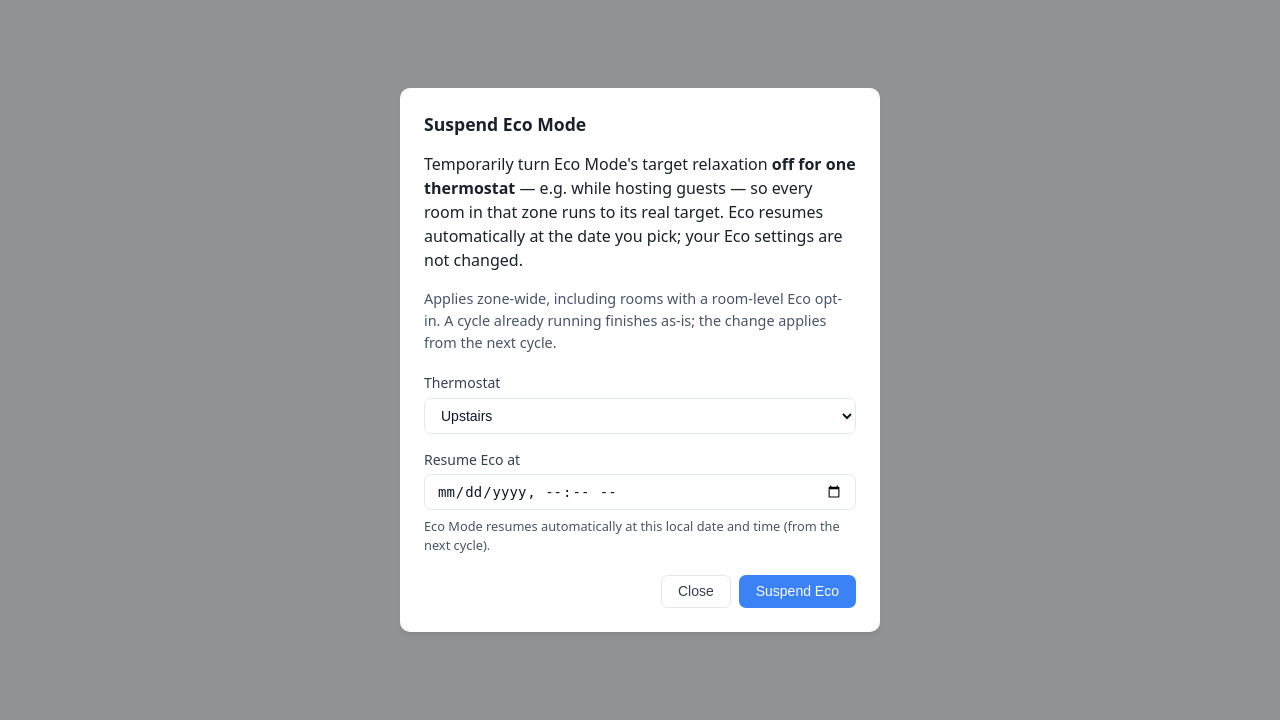
Test: EcoSuspendModal (Issue #500) › surfaces an API failure as an inline error
Type "2099-06-01T18:00" into the field labelled "Resume Eco at" at (640, 492), box [424,474,856,510]
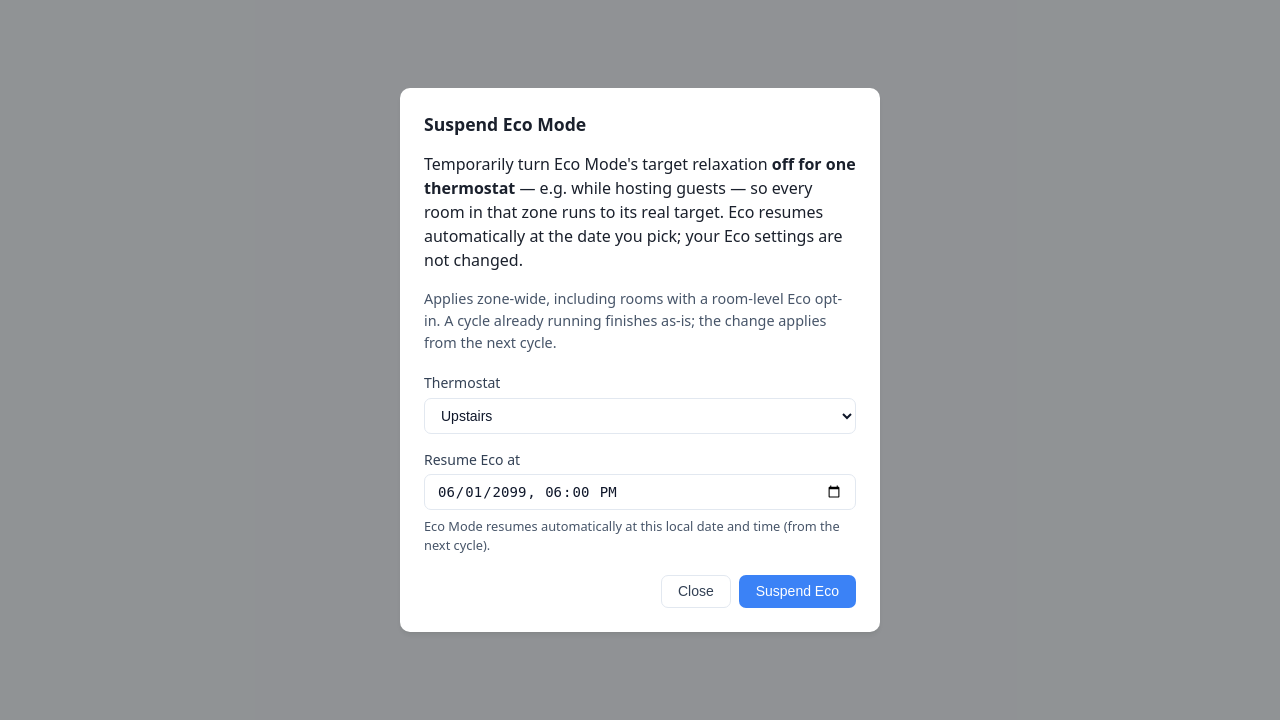
Click the button "Suspend Eco" at (797, 591), box [739,575,856,608]
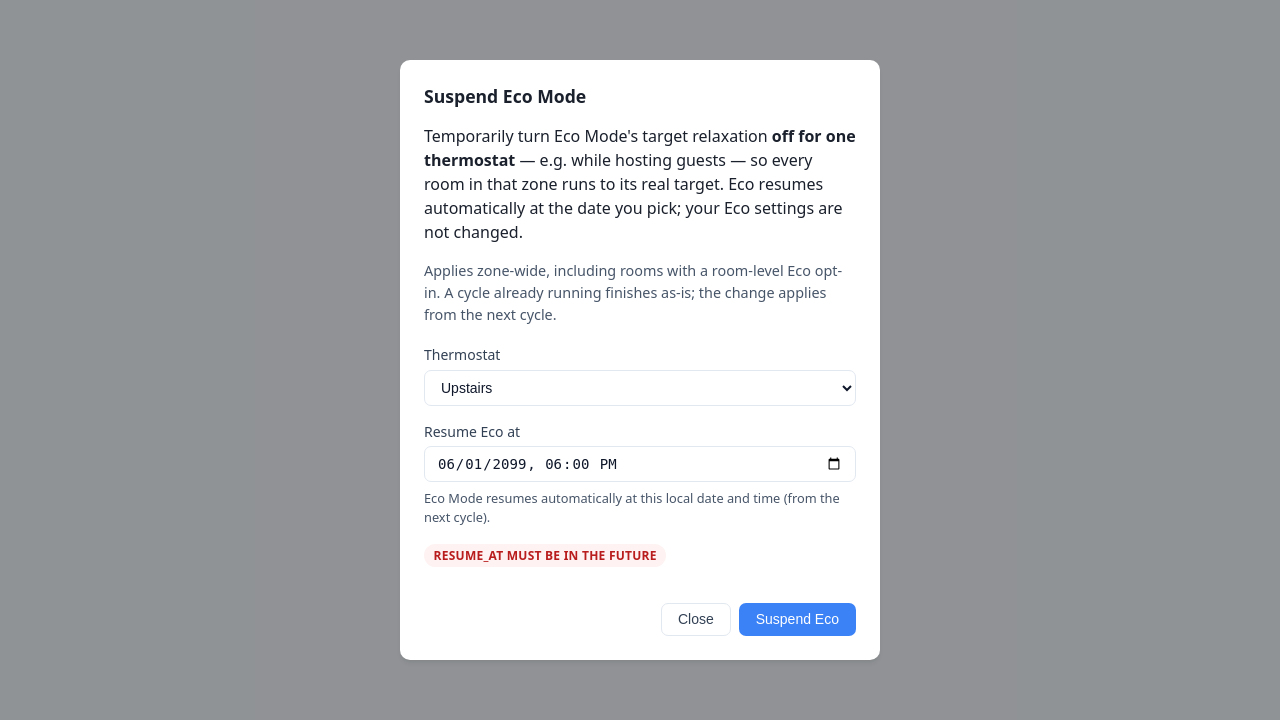
Check: the text "resume_at must be in the future" is shown, box [424,544,666,567]
